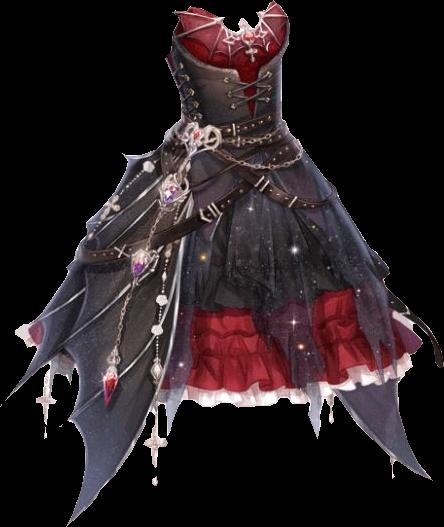Bodice: (165, 0, 289, 136)
Hemline: (58, 184, 387, 526), (151, 361, 415, 410)
Neckline: (170, 35, 282, 124), (187, 0, 276, 33)
Skirt: (11, 118, 430, 524)
Waistline: (178, 115, 286, 139)
